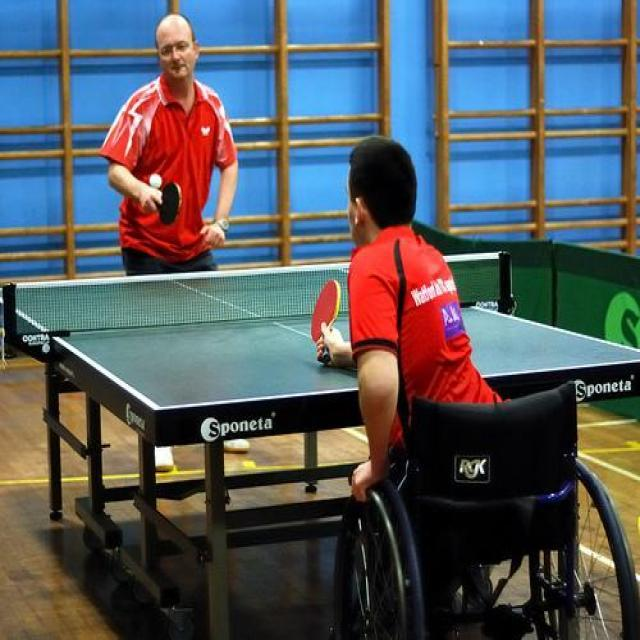ping-pong-ball: (148, 173, 162, 189)
